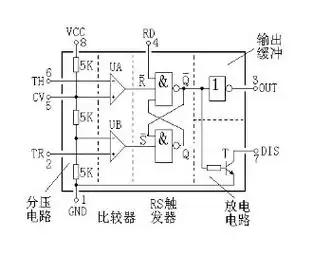bistable flip-flop: (148, 73, 184, 163)
comparator1: (110, 74, 125, 105), (111, 132, 125, 163)
discharge circuit: (225, 158, 235, 177)
output circuit: (208, 76, 226, 101)
reset circuit: (144, 48, 154, 57)
resistance: (73, 57, 80, 72), (72, 164, 79, 179), (73, 110, 79, 125)
